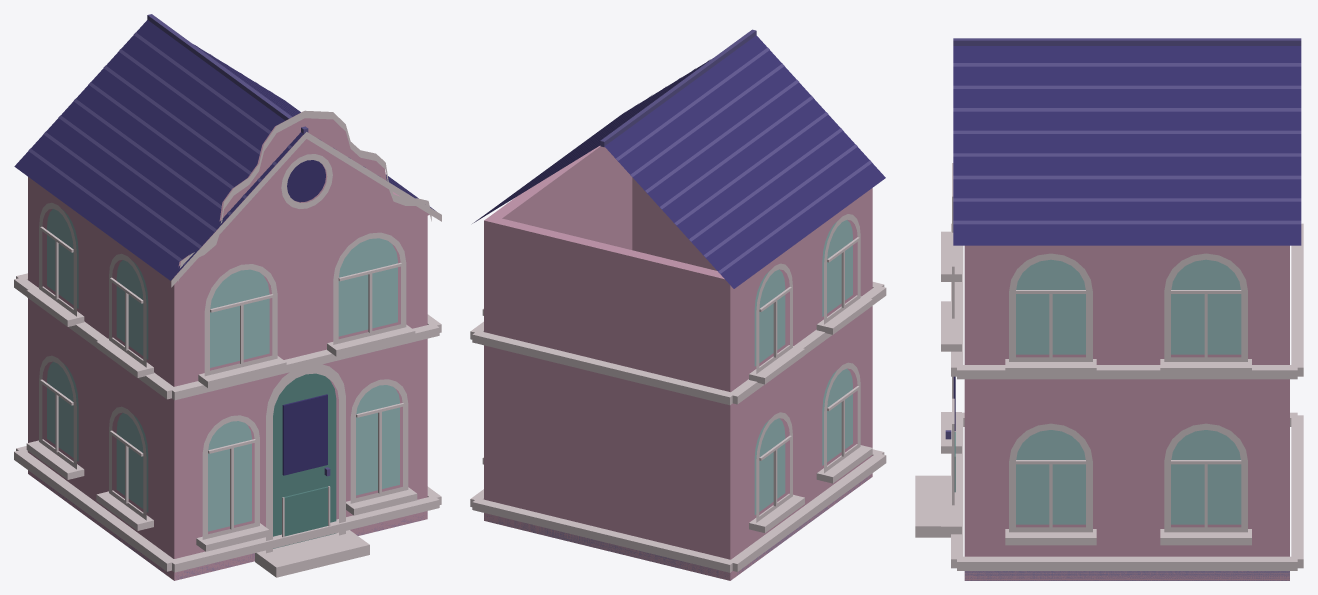
The model's file is rose-arch.glb.
3 views of the same model, side by side, from view 1: azimuth 30°, elevation 25°; view 2: azimuth 150°, elevation 25°; view 3: azimuth 270°, elevation 25° (orthographic). The views are drawn at different scales.
Visible parts, largest first — view 1: scenery; view 2: scenery; view 3: scenery.
Boxes of the visible parts, x1,y1,x2,y2 form: scenery: (14,14,441,580); scenery: (470,29,886,580); scenery: (915,38,1303,580).
Bounding box in the file's own units: 2.98 × 4.34 × 3.11.
